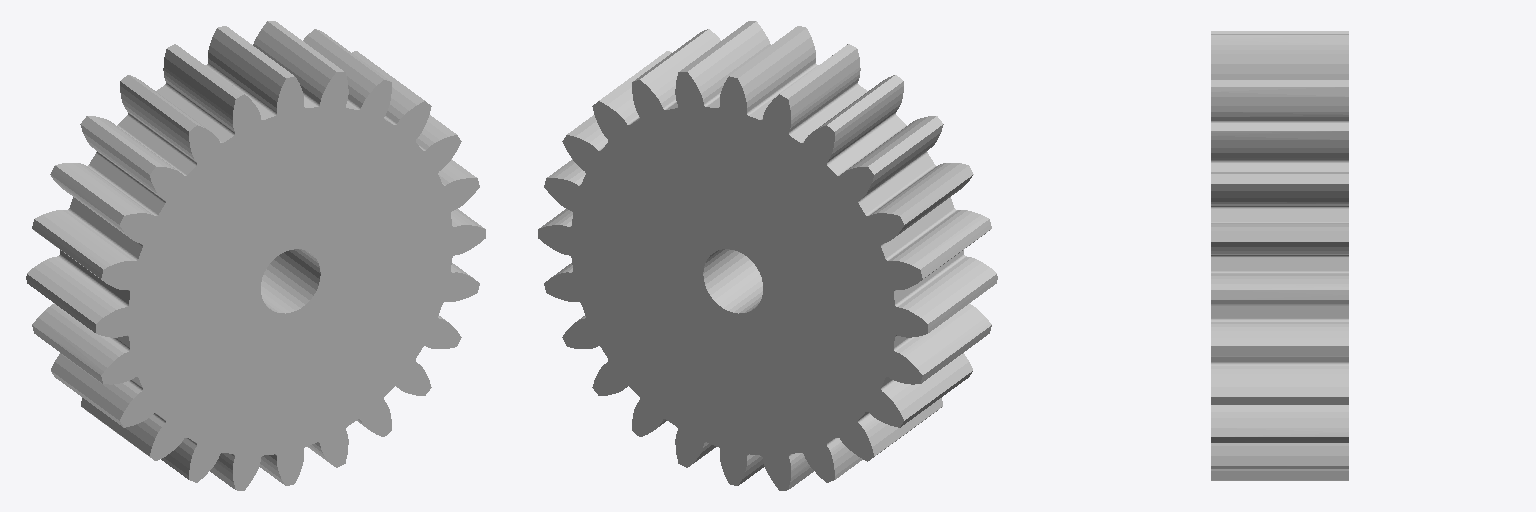
The model's file is engrenagem.obj.
3 renders of one model, left to right at view 1: azimuth 30°, elevation 25°; view 2: azimuth 150°, elevation 25°; view 3: azimuth 270°, elevation 25°, orthographic.
Parts seen in each view (by area): view 1: engrenagem; view 2: engrenagem; view 3: engrenagem.
Boxes of the visible parts, <box> form: engrenagem: <box>26,21,485,490</box>; engrenagem: <box>538,21,997,490</box>; engrenagem: <box>1211,31,1348,480</box>.
Size of the model in its own units: 260 by 260 by 80.